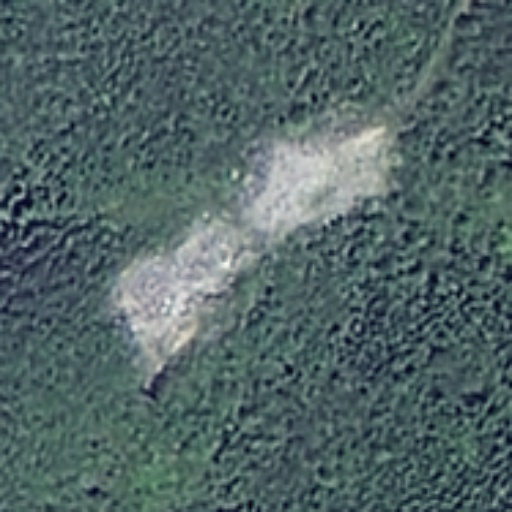landslide: (104, 117, 394, 386)
